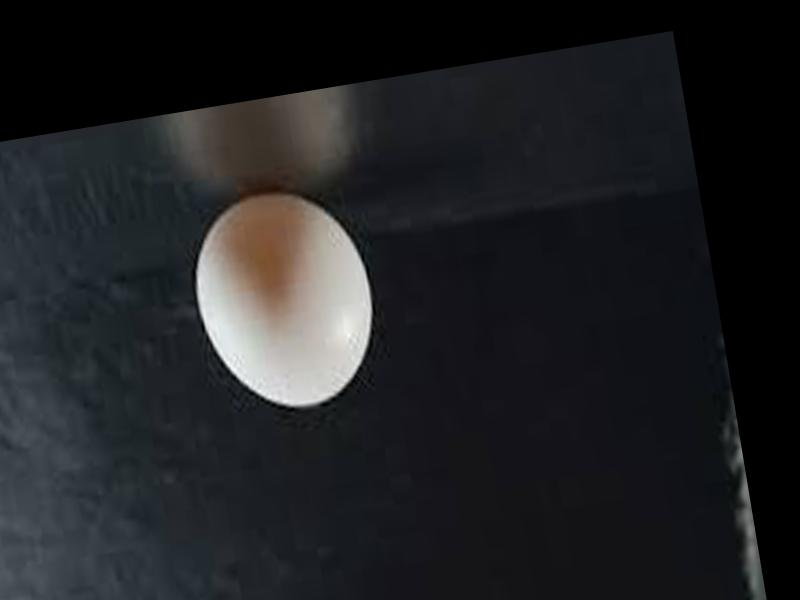Eggs: (182, 180, 386, 426)
